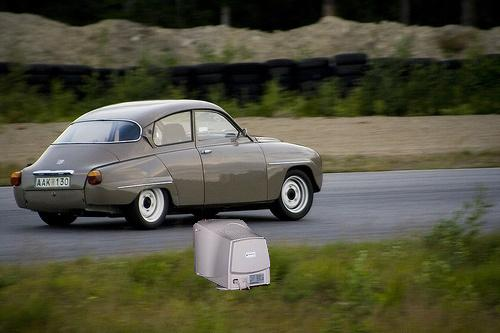tampered: (194, 220, 270, 290)
